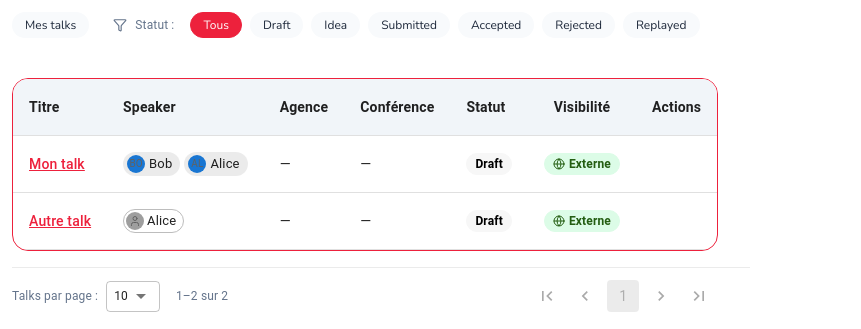
Test case: Mes talks › filtre les speakers pour ADMIN et ne confond pas nom et email
expect the button "Autre talk" is shown: met, box [29,213,91,229]
Step 1. Click the button "Mes talks" → (51, 25), box [12,12,89,38]
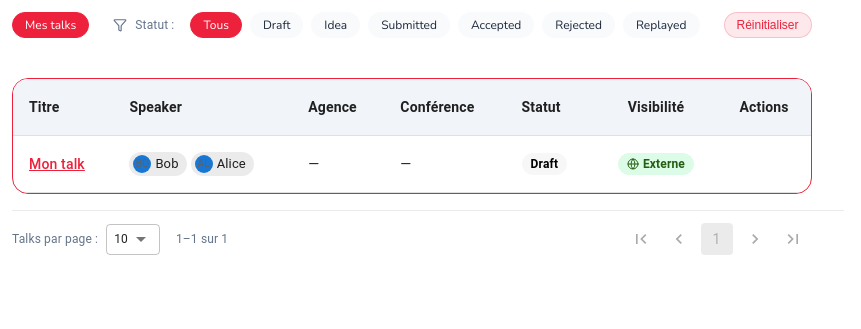
expect the button "Mon talk" is shown: met, box [29,156,85,172]
expect the button "Autre talk" is gone: met
Step 2. Click the button "Accepted" → (496, 25), box [458,12,534,38]
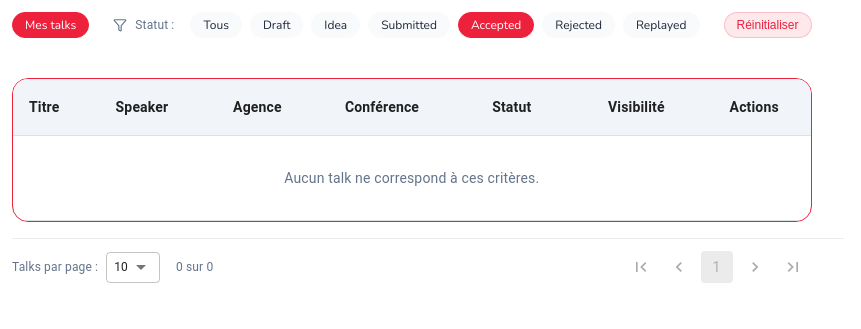
expect the button "Mon talk" is gone: met
Step 3. Click the button "Réinitialiser" → (768, 25), box [724,12,812,38]
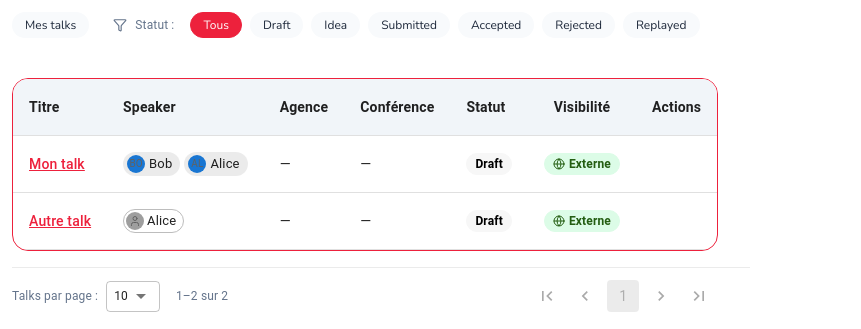
expect the button "Autre talk" is shown: met, box [29,213,91,229]
